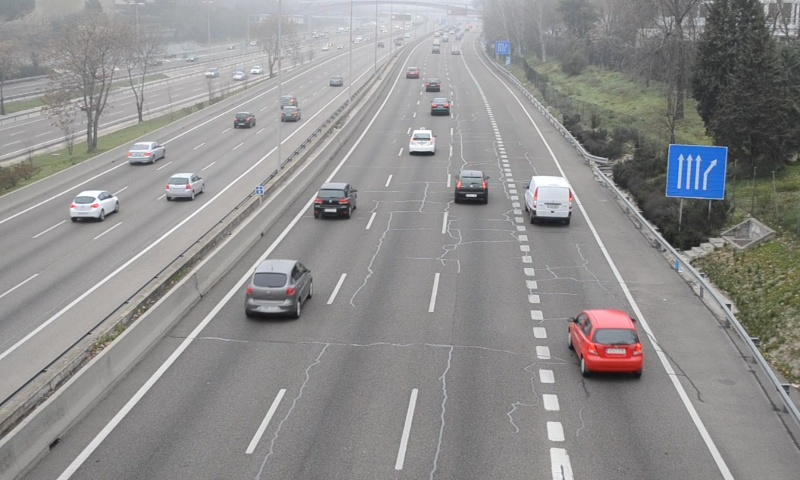car: (568, 310, 644, 374), (245, 259, 310, 317), (313, 182, 356, 218), (454, 169, 486, 204), (408, 129, 436, 154), (430, 96, 452, 116)
van: (526, 175, 573, 222)
